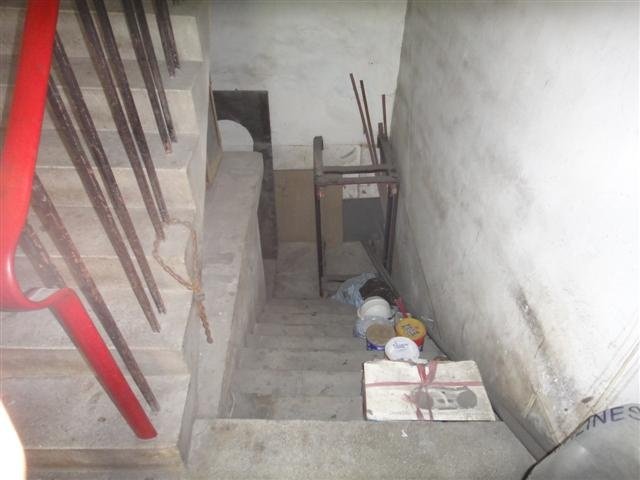bottle: (395, 317, 426, 350), (365, 323, 397, 351)
plastic_bag: (362, 278, 392, 298), (340, 277, 362, 303)
